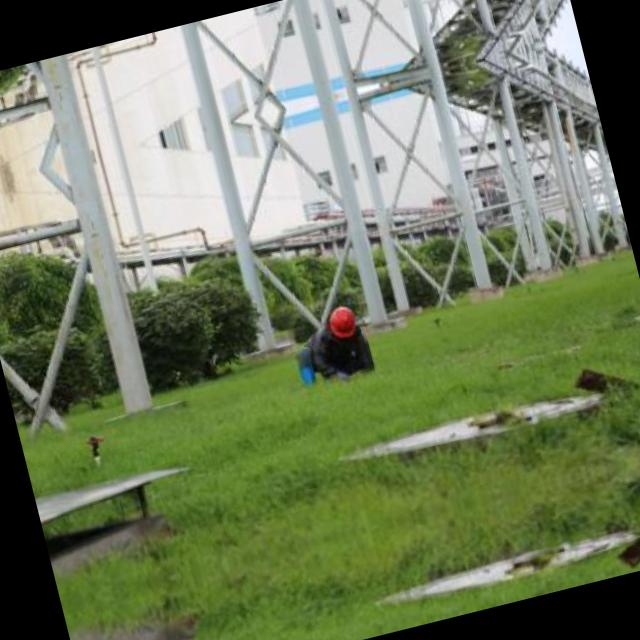helmet: (320, 298, 358, 342)
